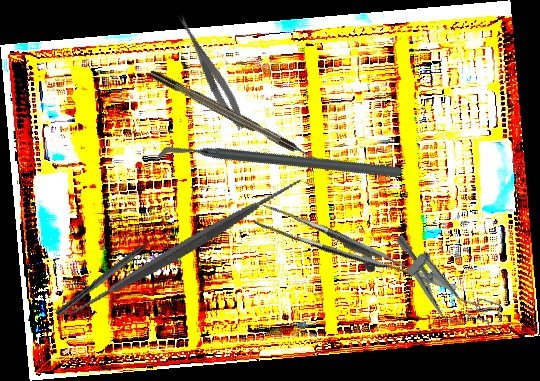Chopper: (150, 58, 404, 270), (54, 229, 168, 324)
Hook Surgical: (148, 67, 328, 170)
Micro Scissor: (169, 11, 251, 133)
Spatula Surgical: (53, 115, 315, 380)
Speculum: (377, 226, 507, 346)
Tissue Forceps: (253, 185, 458, 324)
